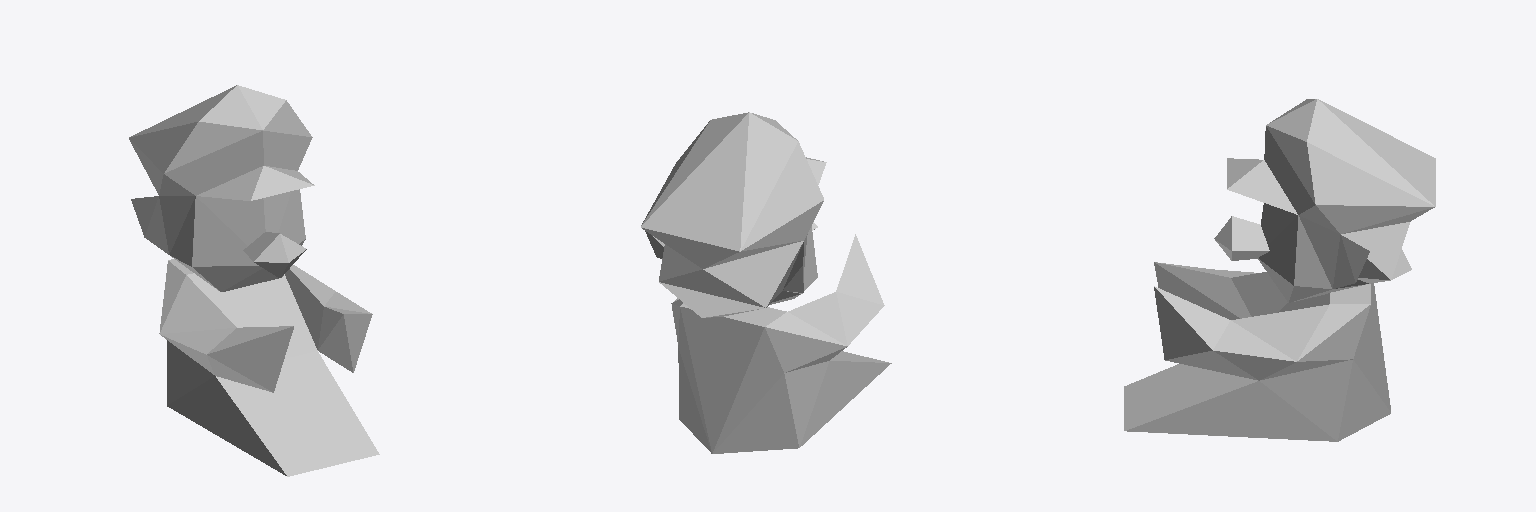
3 views of the same model, side by side, from view 1: azimuth 30°, elevation 25°; view 2: azimuth 150°, elevation 25°; view 3: azimuth 270°, elevation 25° (orthographic).
Parts seen in each view (by area): view 1: E_MR; view 2: E_MR; view 3: E_MR.
Boxes of the visible parts, x1=… form: E_MR: x1=129, y1=85, x2=379, y2=476; E_MR: x1=641, y1=112, x2=891, y2=453; E_MR: x1=1124, y1=99, x2=1435, y2=441.
Size of the model in its own units: 0.3955 by 0.6742 by 0.6037.